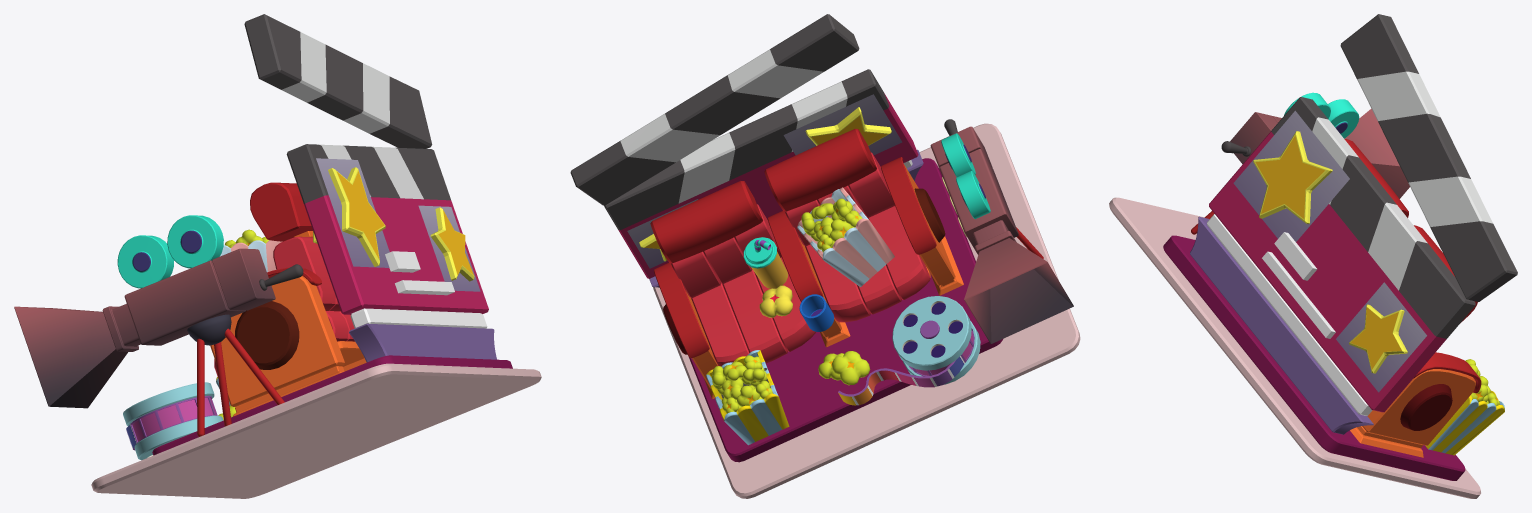
The model's file is lvl_20.fbx.
The picture shows the model from 3 angles, left to right: view 1: azimuth 30°, elevation 25°; view 2: azimuth 150°, elevation 25°; view 3: azimuth 270°, elevation 25°; orthographic projection. The views are drawn at different scales.
Parts seen in each view (by area): view 1: Board_TheaterSeats_4, Board_TheaterSeats_13, Board_TheaterSeats_9, Board_TheaterSeats_28, Board_TheaterSeats_19, Board_TheaterSeats_3, Board_TheaterSeats_21, Board_TheaterSeats_25, Board_TheaterSeats_12, Board_TheaterSeats_33, Board_TheaterSeats_22, Board_TheaterSeats_10 (+3 smaller); view 2: Board_TheaterSeats_13, Board_TheaterSeats_4, Board_TheaterSeats_28, Board_TheaterSeats_22, Board_TheaterSeats_9, Board_TheaterSeats_21, Board_TheaterSeats_26, Board_TheaterSeats_33, Board_TheaterSeats_6, Board_TheaterSeats_14, Board_TheaterSeats_19, Board_TheaterSeats_7 (+18 smaller); view 3: Board_TheaterSeats_4, Board_TheaterSeats_28, Board_TheaterSeats_13, Board_TheaterSeats_3, Board_TheaterSeats_22, Board_TheaterSeats_27, Board_TheaterSeats_9, Board_TheaterSeats_14, Board_TheaterSeats_5, Board_TheaterSeats_11, Board_TheaterSeats_33.
Boxes of the visible parts, x1,y1,x2,y2 form: Board_TheaterSeats_4: (286,144,488,328); Board_TheaterSeats_13: (91,363,541,498); Board_TheaterSeats_9: (14,248,303,408); Board_TheaterSeats_28: (244,14,432,148); Board_TheaterSeats_19: (210,267,344,416); Board_TheaterSeats_3: (349,323,496,362); Board_TheaterSeats_21: (123,382,223,460); Board_TheaterSeats_25: (235,301,299,369); Board_TheaterSeats_12: (187,314,284,436); Board_TheaterSeats_33: (250,182,312,241); Board_TheaterSeats_22: (152,355,512,455); Board_TheaterSeats_10: (167,215,223,268); Board_TheaterSeats_13: (653,123,1080,498); Board_TheaterSeats_4: (604,69,918,278); Board_TheaterSeats_28: (570,14,859,205); Board_TheaterSeats_22: (689,158,1002,462); Board_TheaterSeats_9: (930,119,1073,343); Board_TheaterSeats_21: (838,296,980,405); Board_TheaterSeats_26: (797,187,894,286); Board_TheaterSeats_33: (764,128,876,211); Board_TheaterSeats_6: (650,181,762,263); Board_TheaterSeats_14: (706,350,789,445); Board_TheaterSeats_19: (881,157,963,295); Board_TheaterSeats_7: (722,269,787,363); Board_TheaterSeats_4: (1207,97,1475,415); Board_TheaterSeats_28: (1340,14,1517,301); Board_TheaterSeats_13: (1109,197,1480,498); Board_TheaterSeats_3: (1190,216,1373,434); Board_TheaterSeats_22: (1163,235,1465,480); Board_TheaterSeats_27: (1350,352,1481,457); Board_TheaterSeats_9: (1221,108,1409,198); Board_TheaterSeats_14: (1425,359,1504,455); Board_TheaterSeats_5: (1400,384,1452,430); Board_TheaterSeats_11: (1328,99,1359,138); Board_TheaterSeats_33: (1344,139,1408,217).
Size of the model in its own units: 16.84 by 17.48 by 13.95.
